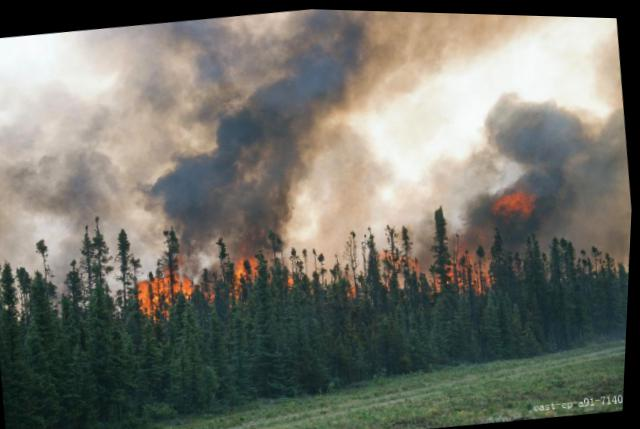fire: (135, 275, 154, 312), (150, 272, 163, 305), (159, 272, 175, 295), (248, 250, 261, 273), (236, 254, 248, 275), (182, 273, 195, 290), (174, 276, 185, 291)
